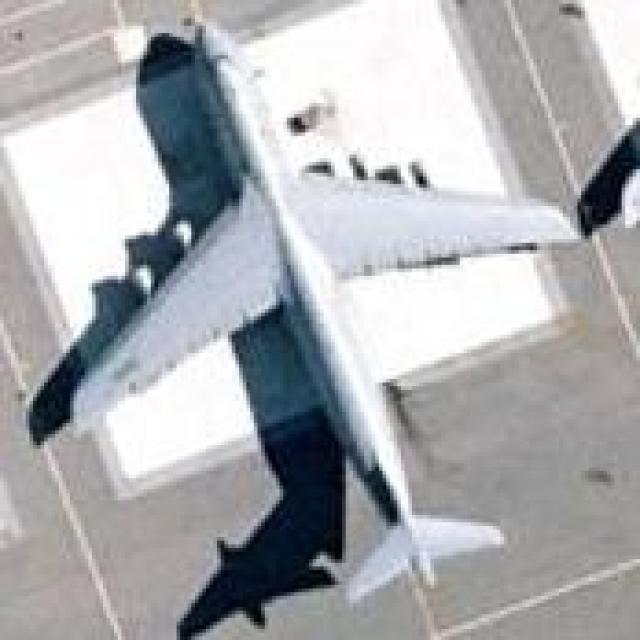C-5_TopDown: (29, 24, 588, 638)
